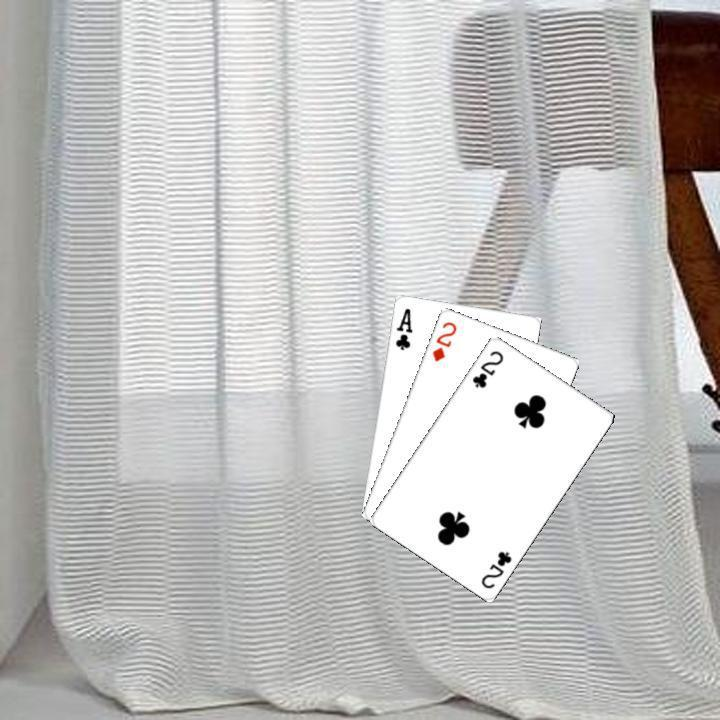2: (468, 346, 506, 390), (476, 546, 514, 590), (428, 317, 458, 363)
A: (391, 304, 414, 351)
